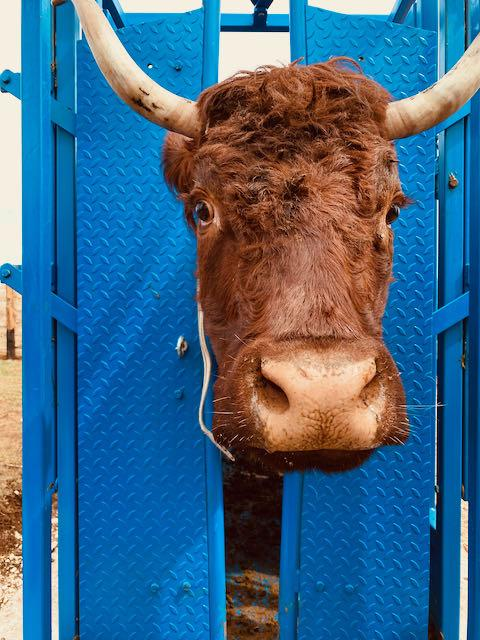muzzles: (198, 333, 417, 475)
